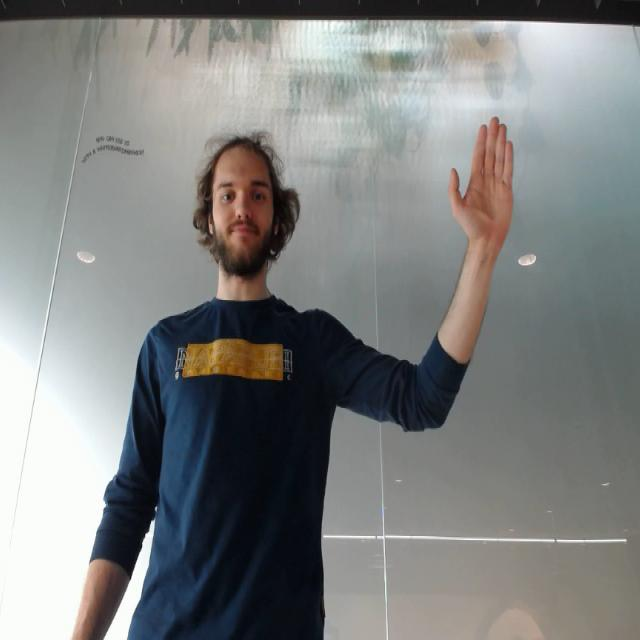backward: (448, 113, 518, 254)
